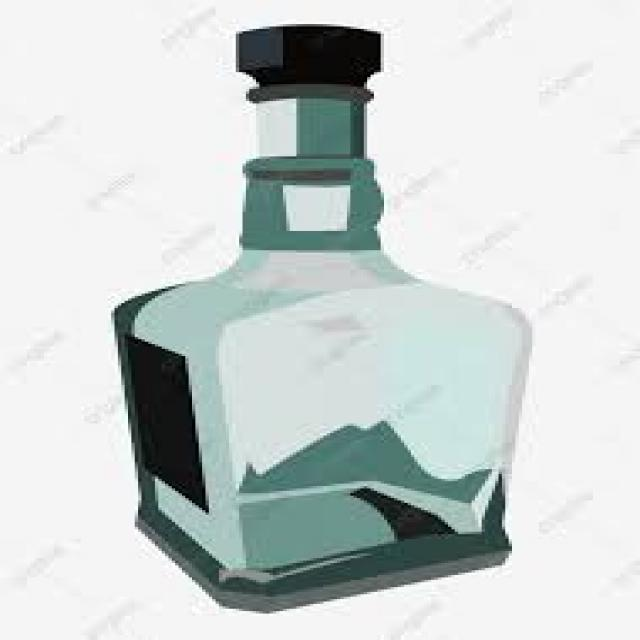Glass-Non-Biodegradable but Recyclable-: (112, 25, 537, 619)
